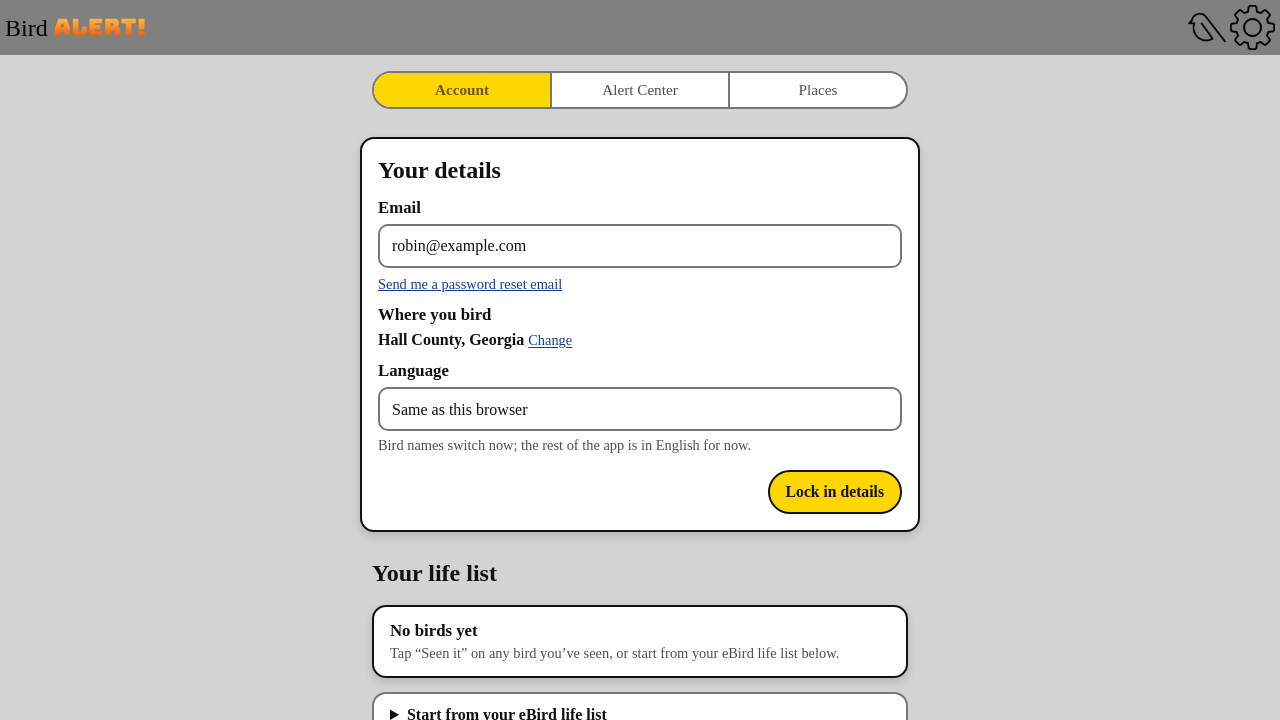
Test: Settings › shows when the hourly check last ran and the quiet-hours window
Click the button "Alert Center".
click(639, 90)  # box [550, 73, 728, 107]
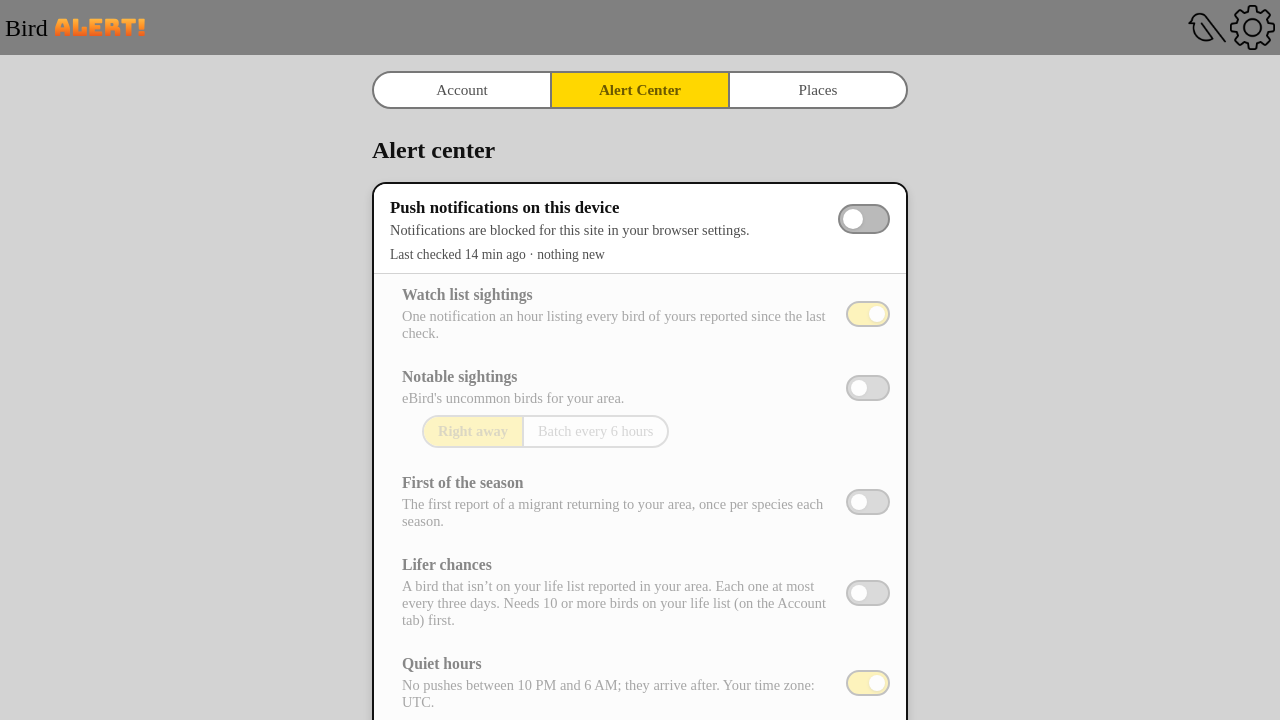
Expected: the text with test id "last-checked" shows "Last checked 14 min ago", [390, 247, 605, 262]
Expected: the text with test id "last-checked" shows "nothing new", [390, 247, 605, 262]
Expected: the checkbox labelled "Quiet hours" is checked, [846, 670, 890, 696]
